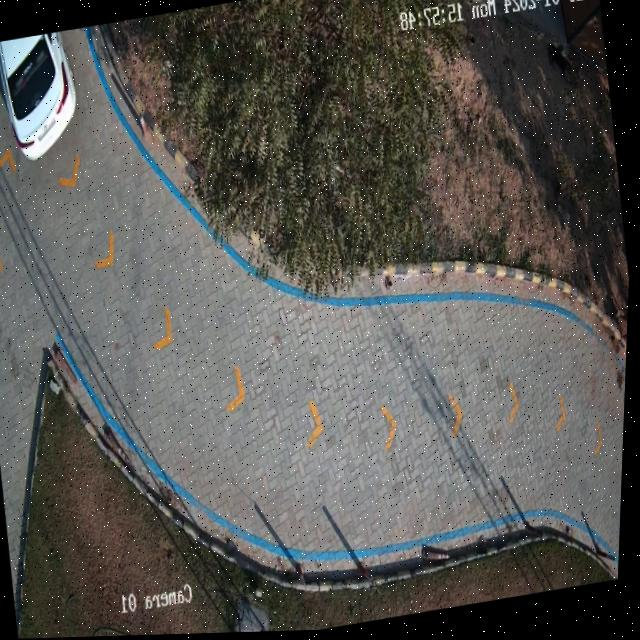car: (0, 32, 78, 160)
